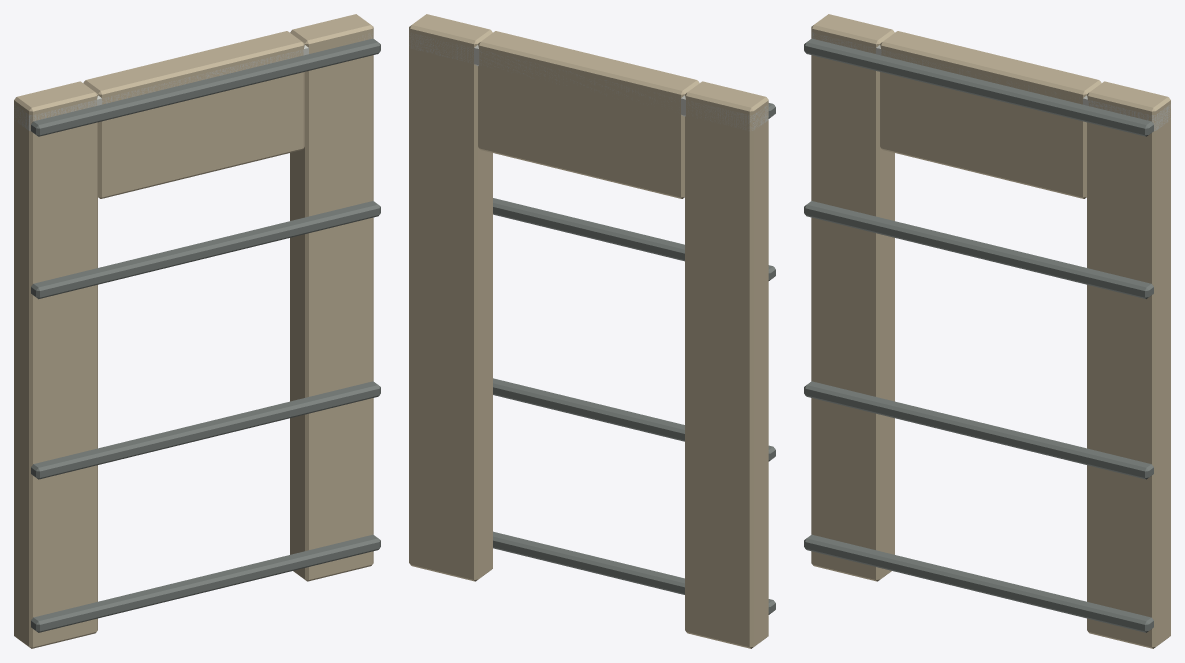
File: architecture-city-door-wall.lod0.glb
3 views of the same model, side by side, from view 1: azimuth 30°, elevation 25°; view 2: azimuth 150°, elevation 25°; view 3: azimuth 330°, elevation 25° (orthographic).
Parts seen in each view (by area): view 1: architecture-city-door-wall__body; view 2: architecture-city-door-wall__body; view 3: architecture-city-door-wall__body.
Part boxes in pixels (x1,y1,x2,y2): architecture-city-door-wall__body: [14, 14, 380, 648]; architecture-city-door-wall__body: [409, 14, 775, 648]; architecture-city-door-wall__body: [804, 14, 1170, 648].
Size of the model in its own units: 2 by 3 by 0.25.
